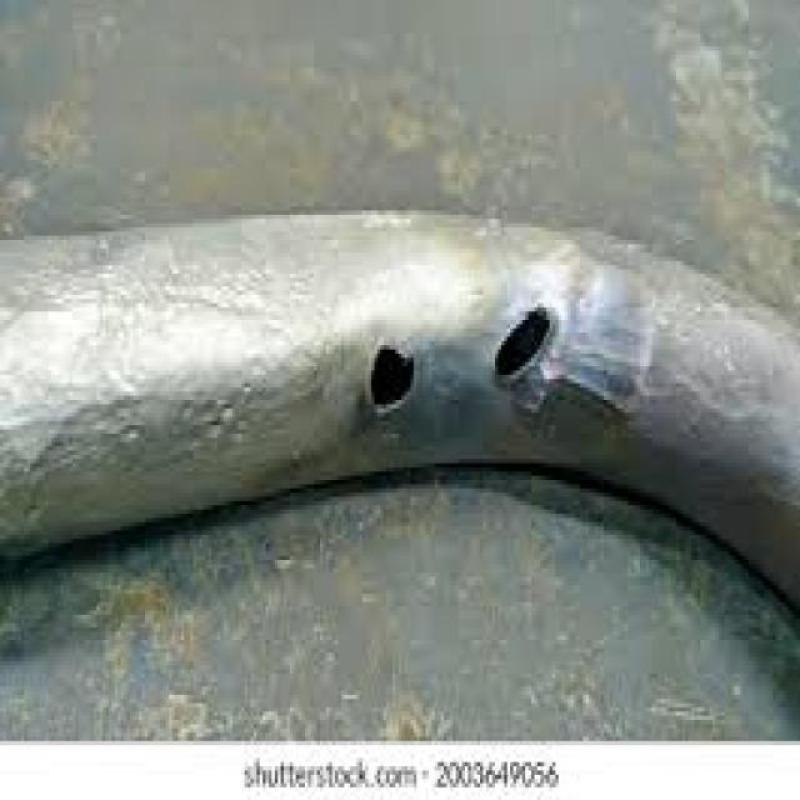Fracture: (503, 310, 555, 372), (372, 348, 408, 403)
